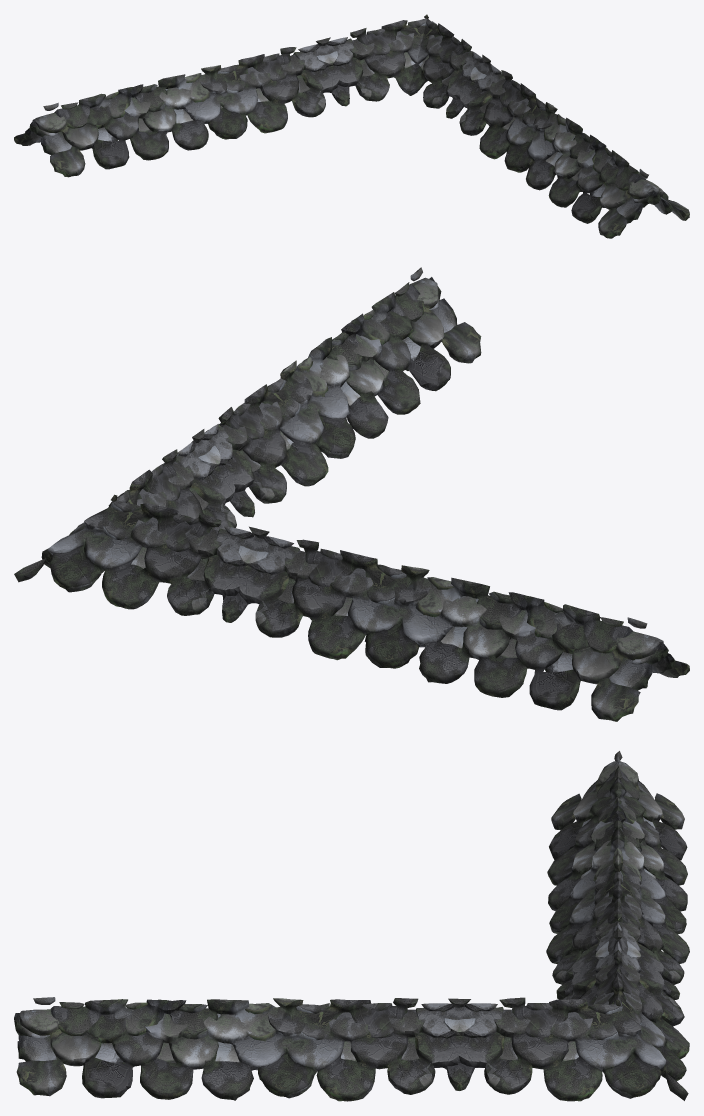
Rendered from SM_Roof_Cap_08.fbx.
3 views of the same model, one above another, from view 1: azimuth 30°, elevation 25°; view 2: azimuth 150°, elevation 25°; view 3: azimuth 270°, elevation 25° (orthographic). The views are drawn at different scales.
Parts seen in each view (by area): view 1: SM_Roof_Cap_08_LOD0; view 2: SM_Roof_Cap_08_LOD0; view 3: SM_Roof_Cap_08_LOD0.
Part boxes in pixels (<box>): SM_Roof_Cap_08_LOD0: <box>14,14,689,238</box>; SM_Roof_Cap_08_LOD0: <box>14,267,689,721</box>; SM_Roof_Cap_08_LOD0: <box>14,751,689,1101</box>.
Size of the model in its own units: 446 by 446 by 57.5.
